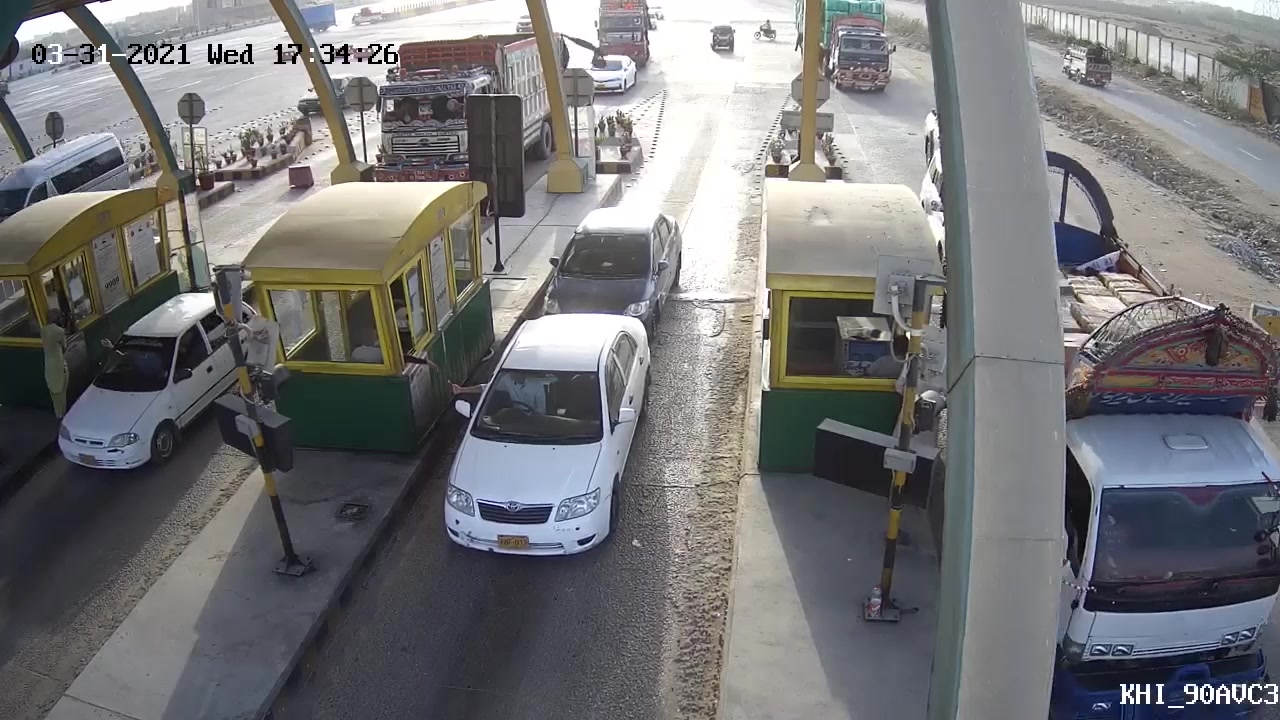F1: (444, 311, 647, 556)
